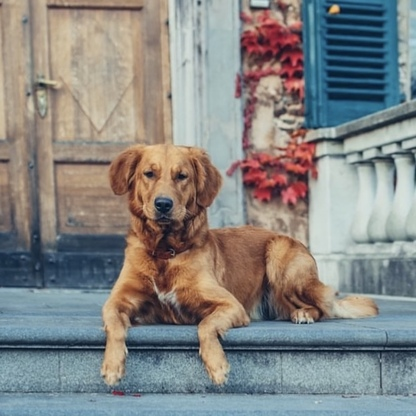labrado: (90, 136, 386, 391)
